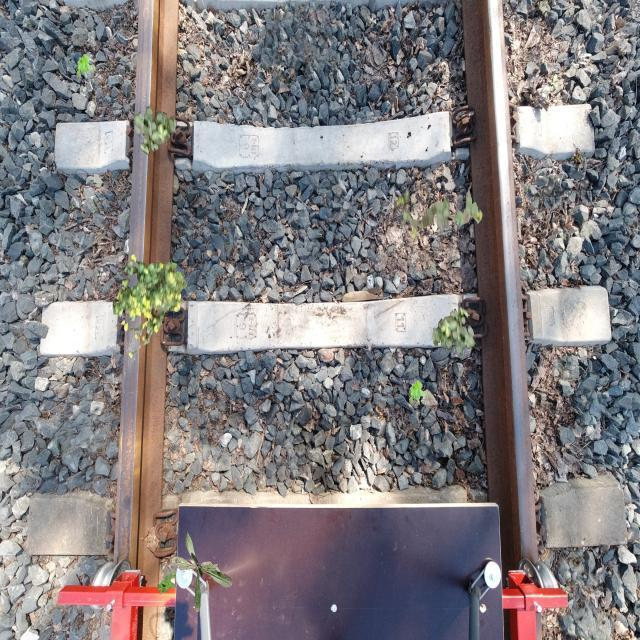Plant: (113, 254, 188, 359), (170, 529, 234, 613), (396, 188, 482, 240), (432, 306, 476, 356), (133, 106, 176, 156), (76, 54, 96, 79), (157, 571, 177, 596), (408, 380, 428, 405)
